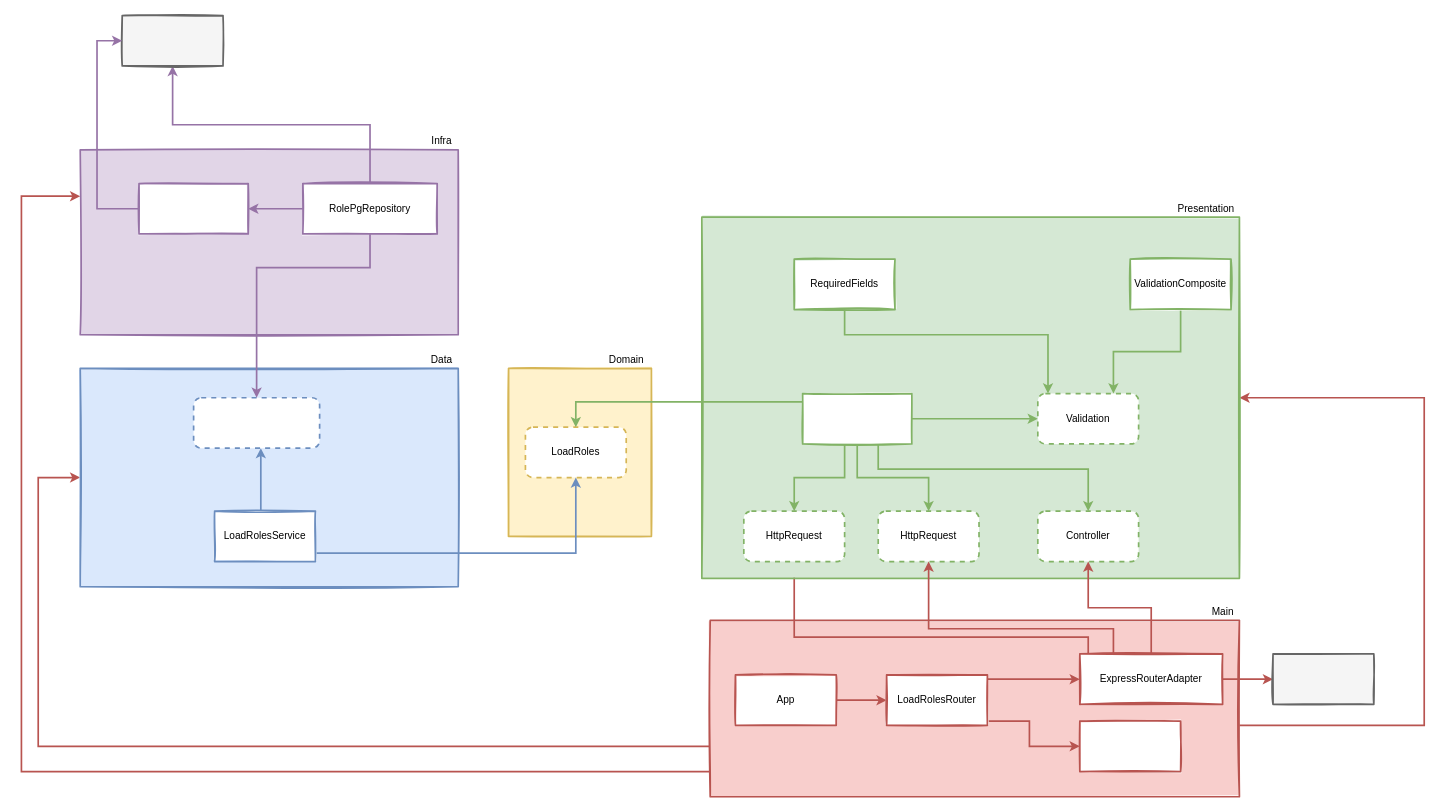
This 1446x811 diagram has some shape labels left out. The centre of each missing label's shape, as x and y in pixels:
Express: pixel 1323 679
LoadRolesController: pixel 856 418
LoadRolesFactory: pixel 1130 746
LoadRolesRepository: pixel 256 422
RoleEntity: pixel 193 208
TypeOrm: pixel 172 40
